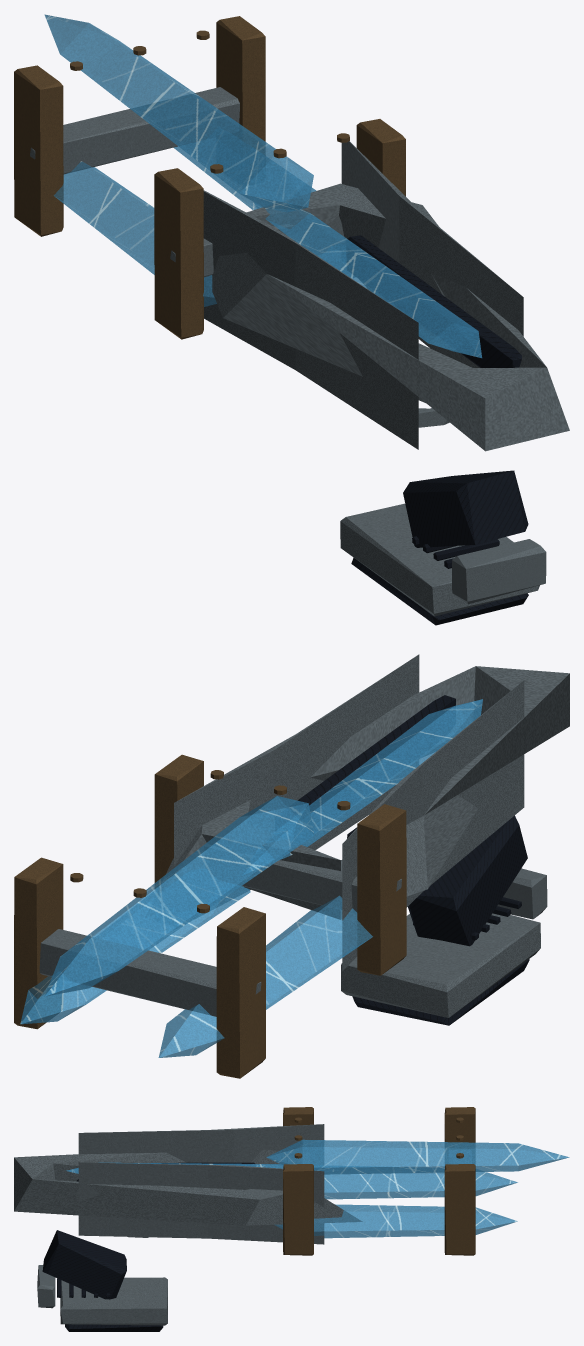
Rendered from rime-focus-stowed-lod1.glb.
3 renders of one model, top to bottom at view 1: azimuth 30°, elevation 25°; view 2: azimuth 150°, elevation 25°; view 3: azimuth 270°, elevation 25°, orthographic. The views are drawn at different scales.
Visible parts, largest first — view 1: Sculpted open silver receiver, Swept receiver fin, Independent ice cartridge, Swept receiver fin.001, Cartridge clamp bridge.001, Rear dorsal ice conduit, Locking cartridge side bracket, Locking cartridge side bracket.002, Angled slate pistol grip, Hip docking socket, Slate receiver spine.001, Independent ice cartridge.001 (+5 smaller); view 2: Sculpted open silver receiver, Independent ice cartridge, Swept receiver fin.001, Swept receiver fin, Hip docking socket, Cartridge clamp bridge.001, Independent ice cartridge.001, Locking cartridge side bracket, Locking cartridge side bracket.002, Rear dorsal ice conduit, Angled slate pistol grip, Slate receiver spine.001 (+6 smaller); view 3: Sculpted open silver receiver, Swept receiver fin.001, Independent ice cartridge, Swept receiver fin, Independent ice cartridge.002, Hip docking socket, Angled slate pistol grip, Independent ice cartridge.001, Locking cartridge side bracket.003, Locking cartridge side bracket.001, Locking cartridge side bracket.002, Slate mount cushion (+3 smaller).
Part boxes in pixels (x1,y1,x2,y2): Sculpted open silver receiver: (209,183,569,451); Swept receiver fin: (203,190,418,449); Independent ice cartridge: (44,14,313,211); Swept receiver fin.001: (341,141,523,367); Cartridge clamp bridge.001: (30,87,239,174); Rear dorsal ice conduit: (241,182,482,358); Locking cartridge side bracket: (154,168,203,339); Locking cartridge side bracket.002: (14,65,63,236); Angled slate pistol grip: (403,470,528,547); Hip docking socket: (340,503,539,616); Slate receiver spine.001: (347,235,521,367); Independent ice cartridge.001: (54,161,216,306); Sculpted open silver receiver: (158,666,569,919); Independent ice cartridge: (44,796,314,996); Swept receiver fin.001: (174,654,419,918); Swept receiver fin: (342,680,524,970); Hip docking socket: (341,913,540,1017); Cartridge clamp bridge.001: (39,929,261,1016); Independent ice cartridge.001: (158,895,372,1057); Locking cartridge side bracket: (357,804,406,975); Locking cartridge side bracket.002: (216,907,265,1078); Rear dorsal ice conduit: (242,699,482,875); Angled slate pistol grip: (408,815,527,946); Slate receiver spine.001: (275,695,455,832); Sculpted open silver receiver: (14,1149,362,1225); Swept receiver fin.001: (78,1162,324,1244); Independent ice cartridge: (266,1139,569,1174); Swept receiver fin: (78,1124,324,1164); Independent ice cartridge.002: (274,1204,517,1238); Hip docking socket: (60,1277,167,1325); Angled slate pistol grip: (42,1230,126,1299); Independent ice cartridge.001: (324,1172,517,1199); Locking cartridge side bracket.003: (444,1164,475,1255); Locking cartridge side bracket.001: (283,1164,313,1255); Locking cartridge side bracket.002: (444,1107,475,1163); Slate mount cushion: (65,1324,163,1331).
Bounding box in the file's own units: 0.234 × 0.312 × 0.86.
Materials: 4 (4 with a texture image).
